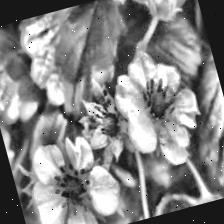Blossom Blight: (43, 156, 102, 224), (132, 73, 184, 135), (86, 97, 128, 144)
